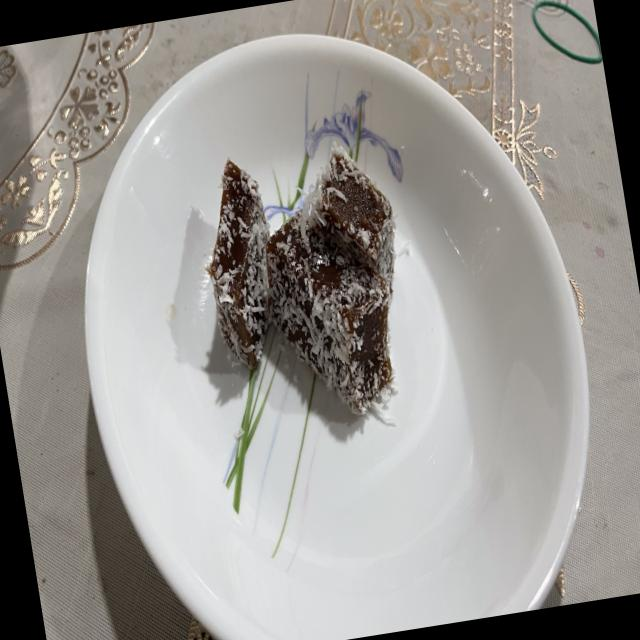kaswi: (266, 206, 396, 415), (207, 159, 269, 369), (307, 148, 397, 289)
